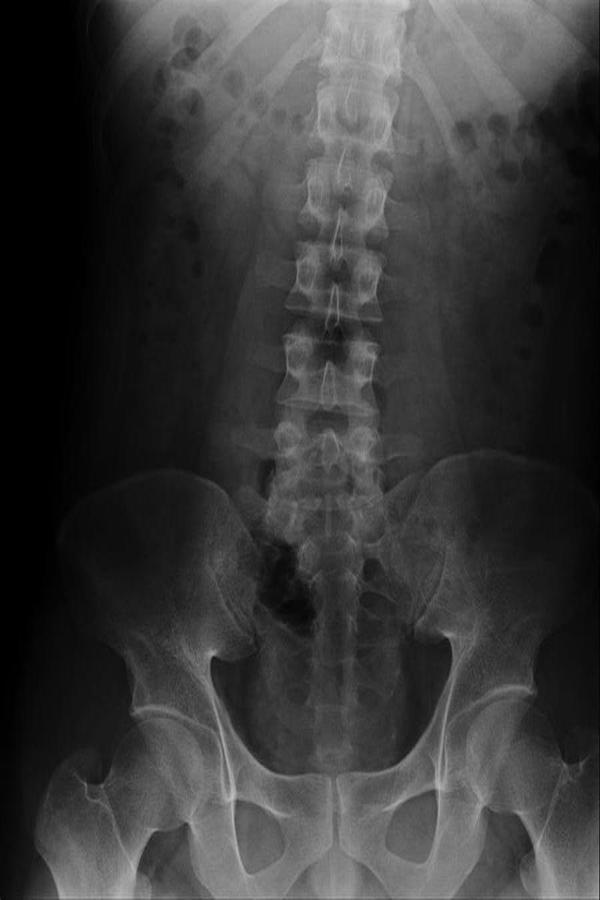lumbar scoliosis: (264, 4, 408, 573)
